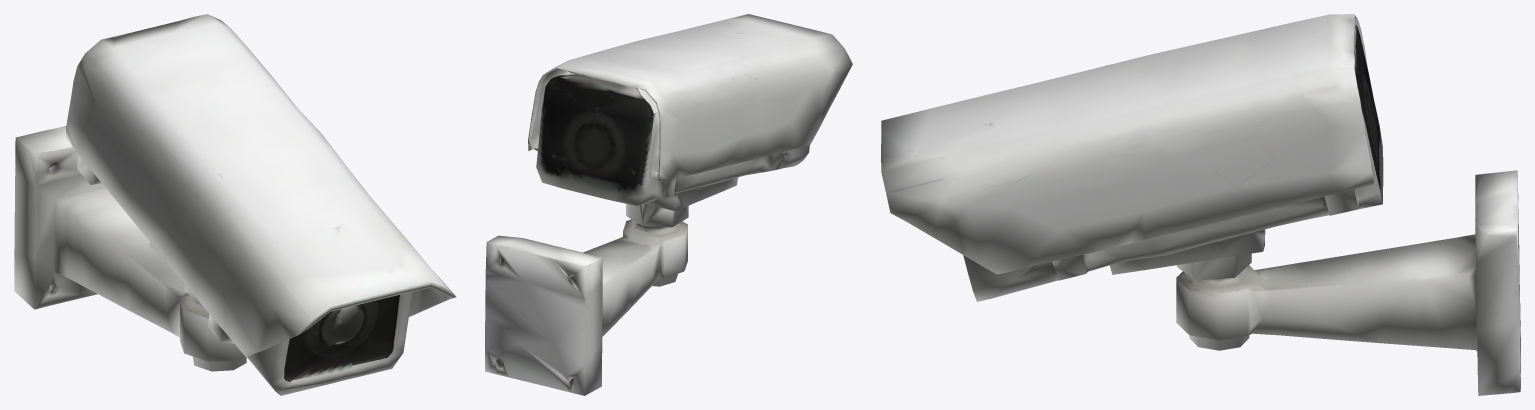
The model's file is Meshy_AI_cctv_0501222025_texture.fbx.
3 views of the same model, side by side, from view 1: azimuth 30°, elevation 25°; view 2: azimuth 150°, elevation 25°; view 3: azimuth 270°, elevation 25° (orthographic). The views are drawn at different scales.
Parts seen in each view (by area): view 1: Mesh_0; view 2: Mesh_0; view 3: Mesh_0.
Boxes of the visible parts, bbox=[...] form: Mesh_0: bbox=[14, 14, 456, 395]; Mesh_0: bbox=[485, 14, 852, 395]; Mesh_0: bbox=[881, 14, 1520, 395].
Bounding box in the file's own units: 57.44 × 107 × 191.
Materials: 1 (1 with a texture image).
